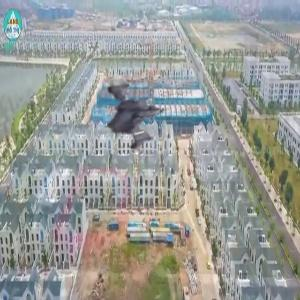drone: (68, 70, 169, 171)
